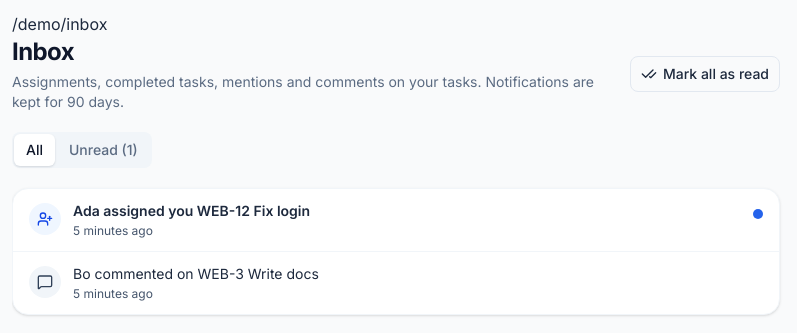
Scenario: InboxPage › filters to unread and keeps the filter in the URL
Expected: the list named "Notifications" is shown, [13, 189, 779, 314]
Click the radio button labelled "Unread (1)".
click(103, 150)  # box [57, 134, 150, 166]
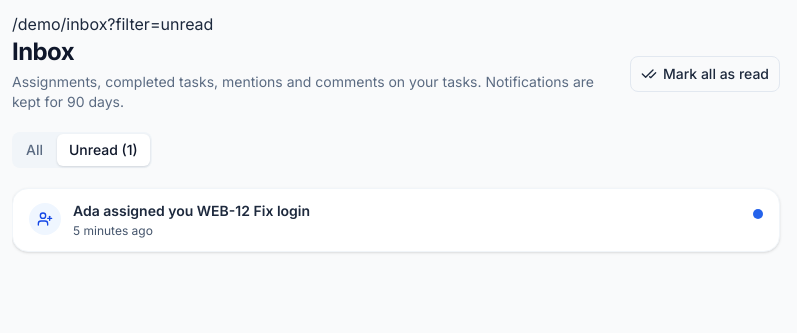
Expected: the text with test id "where" reads "/demo/inbox?filter=unread", [12, 14, 213, 34]
Expected: the button "Bo commented on WEB-3 Write docs" is gone
